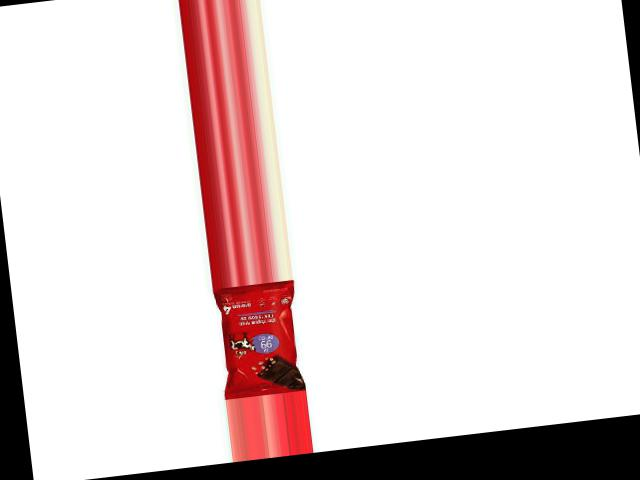chocolate: (215, 278, 307, 399)
